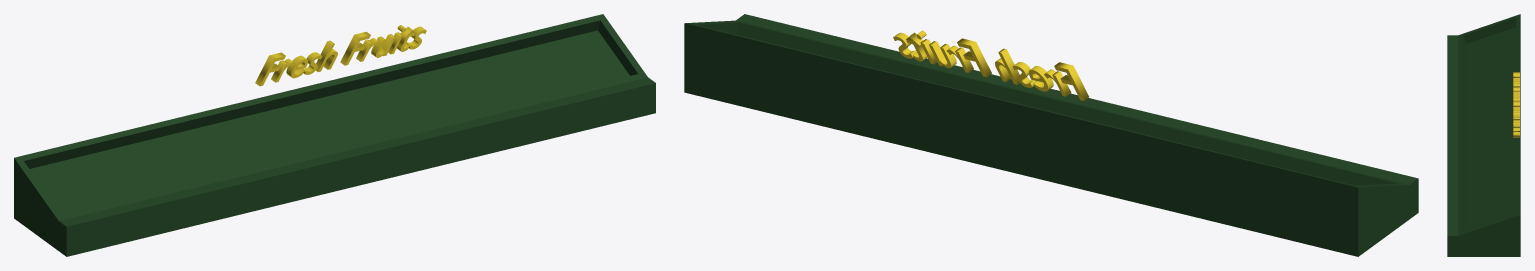
File: Fruit Stall.glb
The picture shows the model from 3 angles, left to right: view 1: azimuth 30°, elevation 25°; view 2: azimuth 150°, elevation 25°; view 3: azimuth 270°, elevation 25°; orthographic projection. The views are drawn at different scales.
Visible parts, largest first — view 1: Cube.050, Text.012; view 2: Cube.050, Text.012; view 3: Cube.050, Text.012.
Boxes of the visible parts, x1=… form: Cube.050: x1=14, y1=14, x2=655, y2=256; Text.012: x1=255, y1=25, x2=426, y2=86; Cube.050: x1=684, y1=14, x2=1418, y2=256; Text.012: x1=893, y1=30, x2=1088, y2=100; Cube.050: x1=1447, y1=14, x2=1520, y2=256; Text.012: x1=1513, y1=72, x2=1519, y2=137.
Bounding box in the file's own units: 165 × 27.14 × 25.55.
